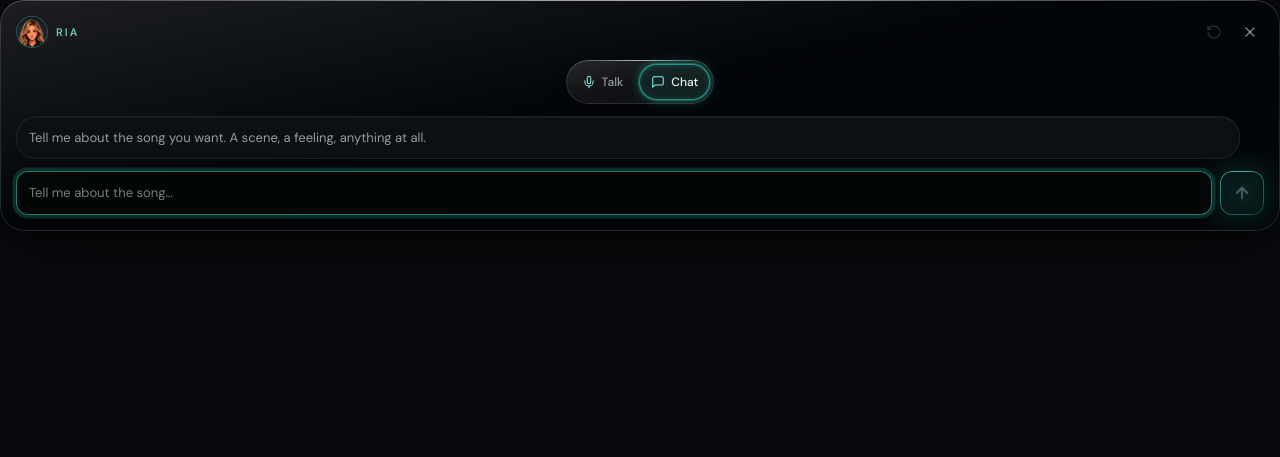
Scenario: ChatPanel › shows the DraftCard only once the server says ready
Check: the button "Open in Create" is not shown
Type "instrumental" into the text box named "Message the assistant" at (614, 193), box [16, 171, 1212, 215]
Then press Enter
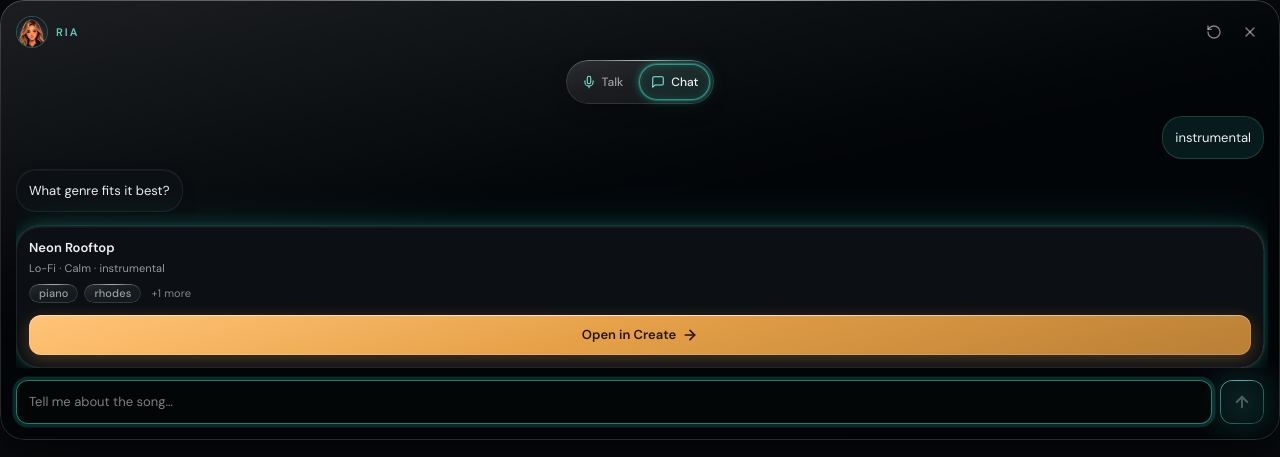
Check: the button "Open in Create" is shown, box [29, 315, 1251, 355]
Check: the text "Neon Rooftop" is shown, box [29, 239, 115, 256]
Check: the text "Lo-Fi · Calm · instrumental" is shown, box [29, 261, 165, 275]
